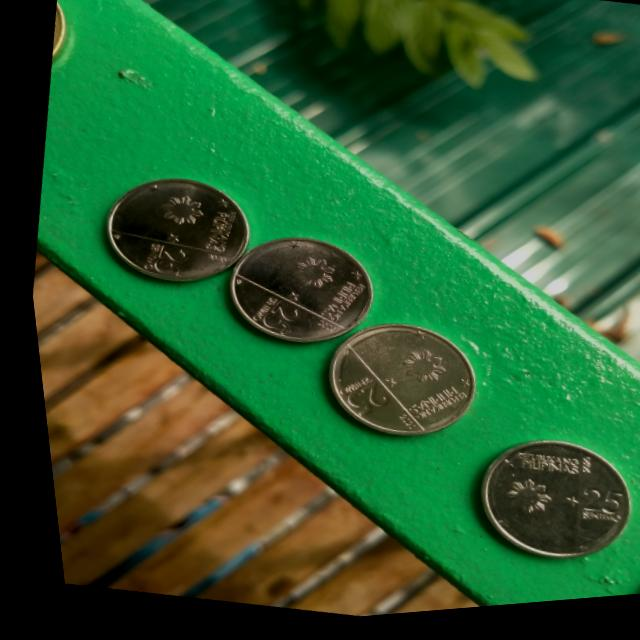25Cent_New_Front: (315, 328, 459, 448), (118, 183, 237, 293)
